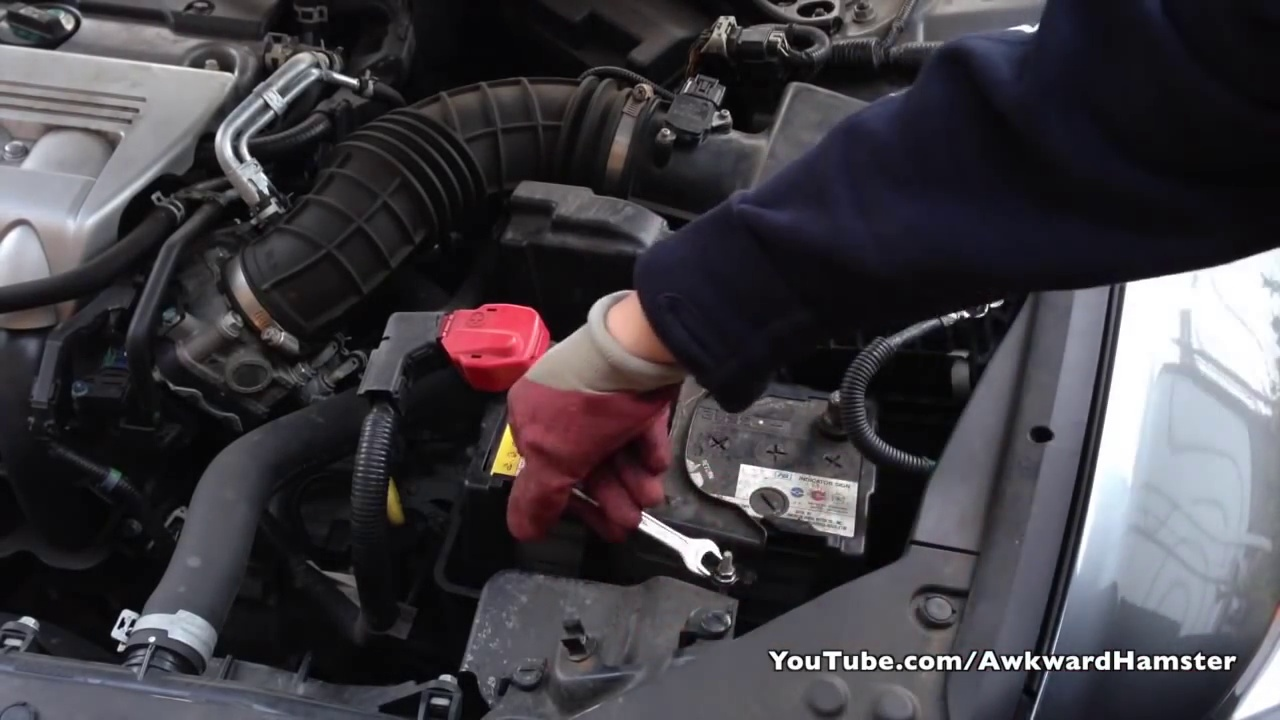battery: (458, 337, 880, 568)
neg_disconnected: (783, 371, 874, 451)
pos_connected: (424, 288, 541, 395)
pos_touched: (440, 299, 609, 454)
